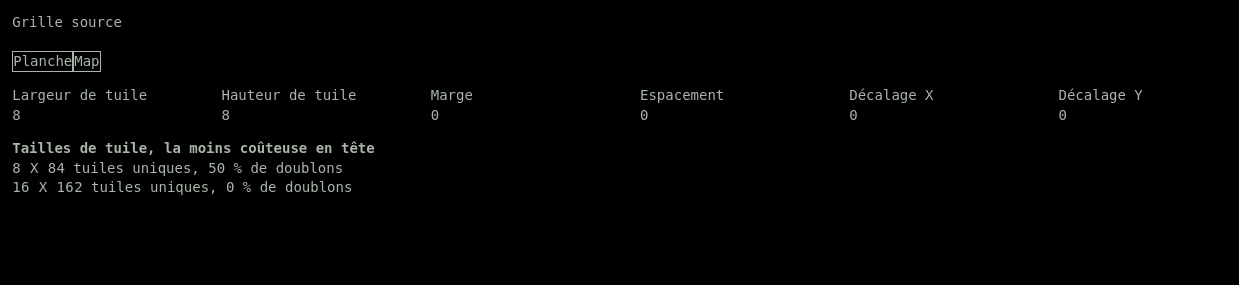
Test: TilesetGridPanel › moves the grid onto the tiles of the map when the user takes the suggestion
The width and height of the screenshot is (1239, 285).
Step 1. Click the button "Map" → (87,61), box [73, 50, 101, 72]
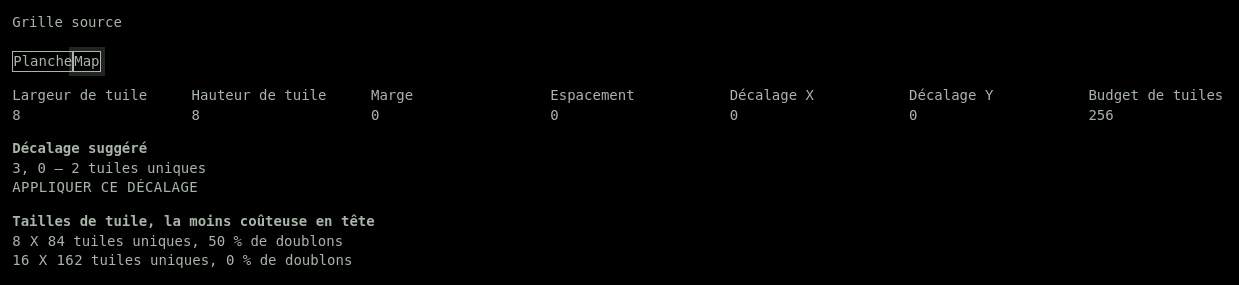
Step 2. Click the button "Appliquer ce décalage" → (105,188), box [12, 178, 198, 198]
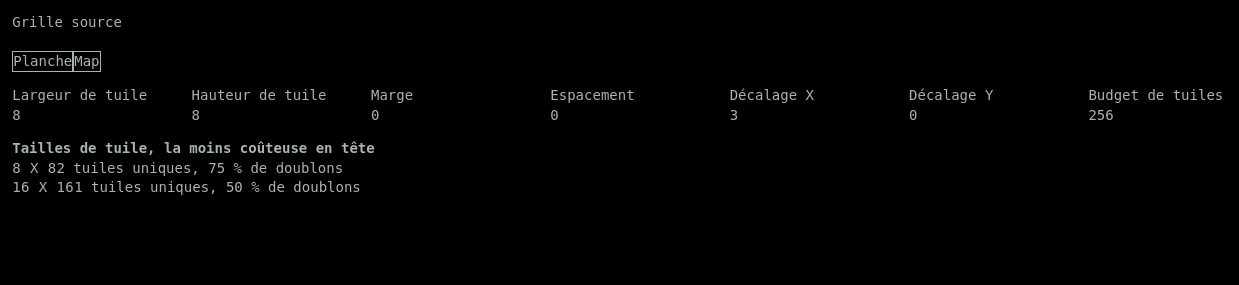
Result: the number field labelled "Décalage X" holds "3" at [730, 106, 909, 125]
